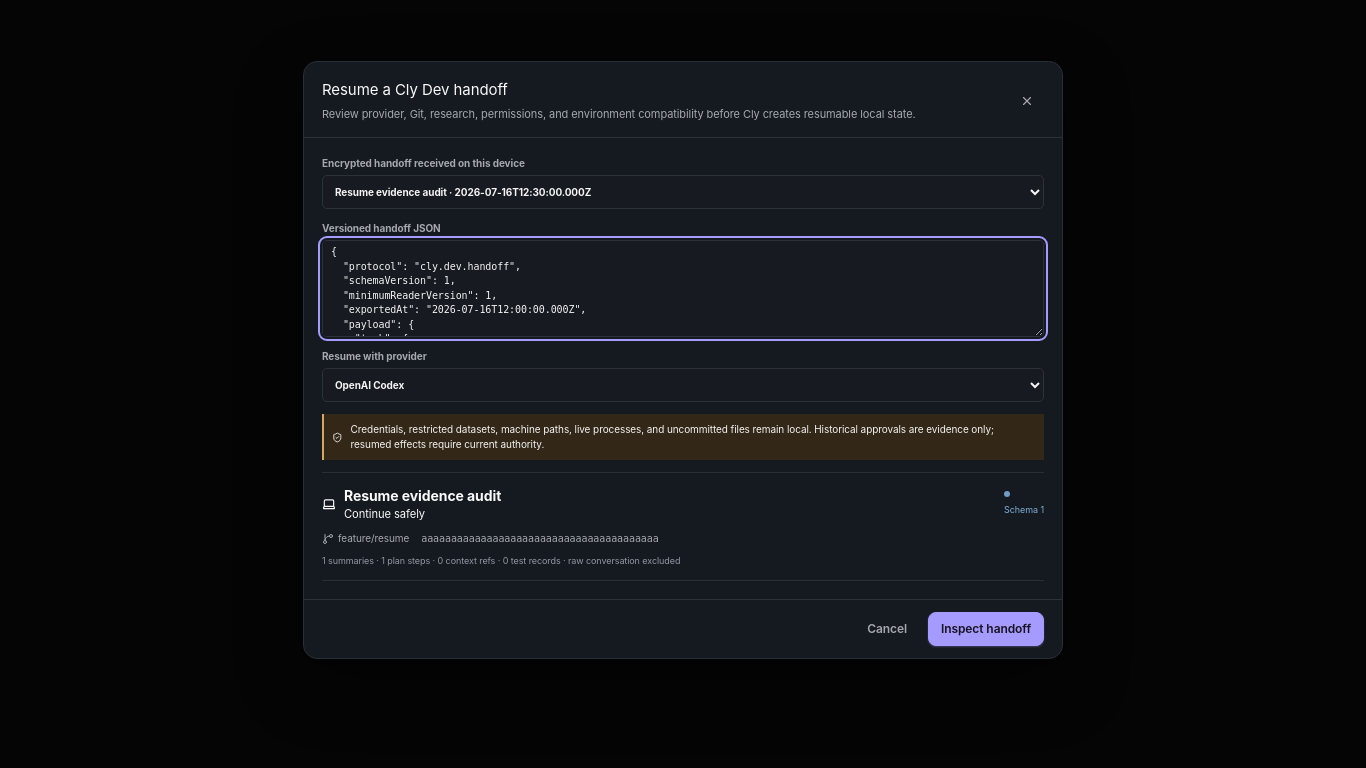
Scenario: ResumeTaskDialog › loads an encrypted handoff and requires stale state review
Click the button "Inspect handoff" at (986, 629), box [928,612,1044,646]
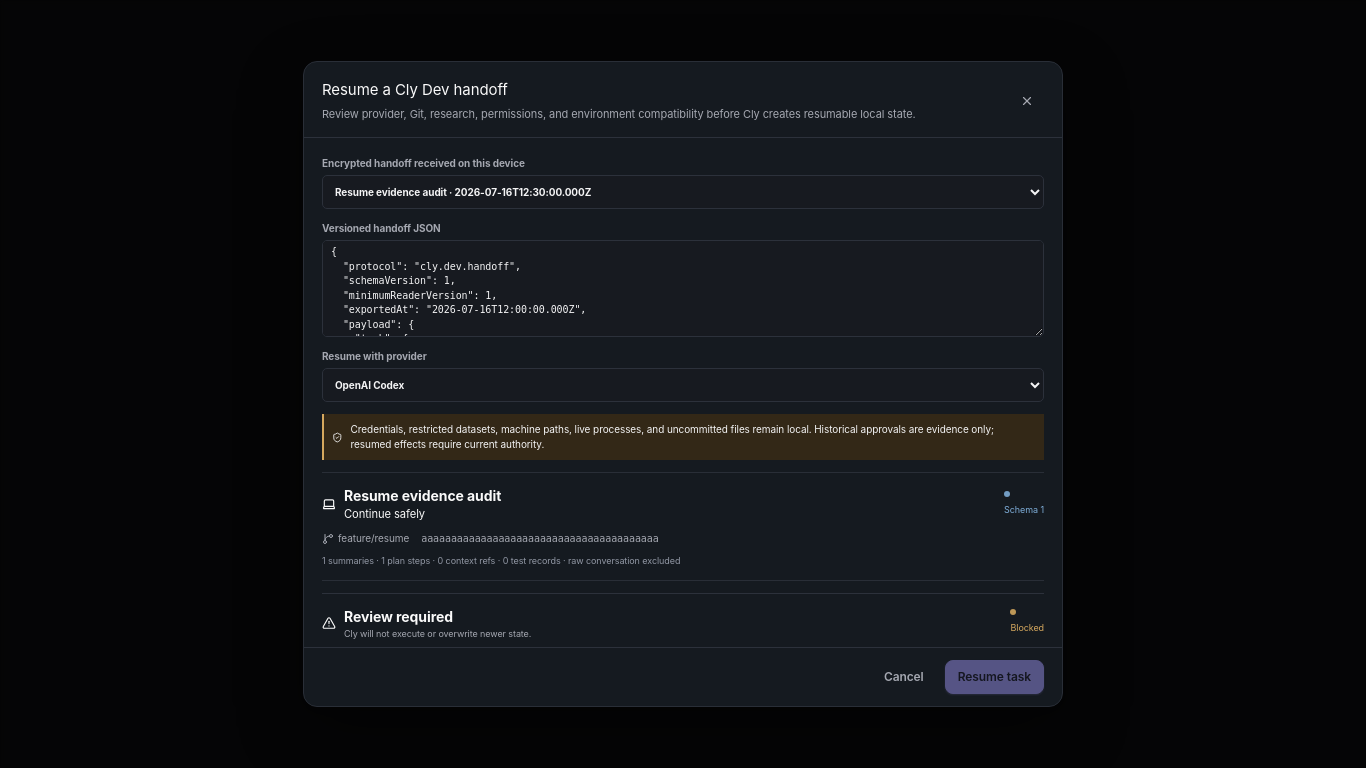
Expected: the button "Resume task" is disabled, [945,660,1044,694]
